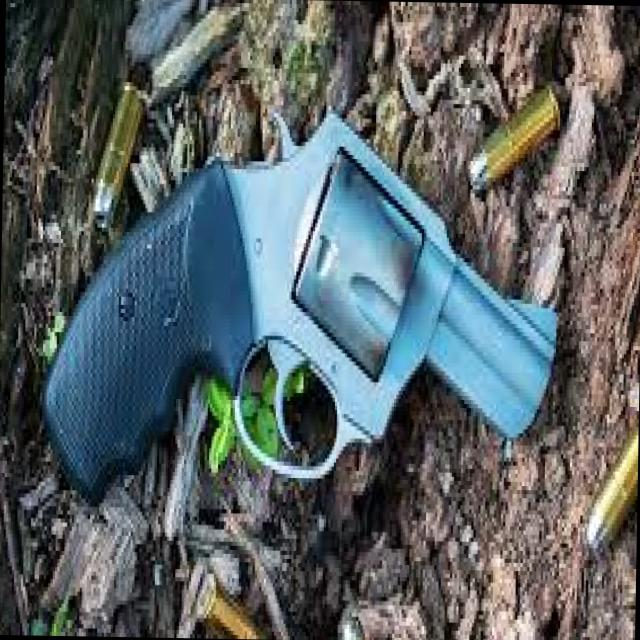Gun: (54, 84, 576, 549)
